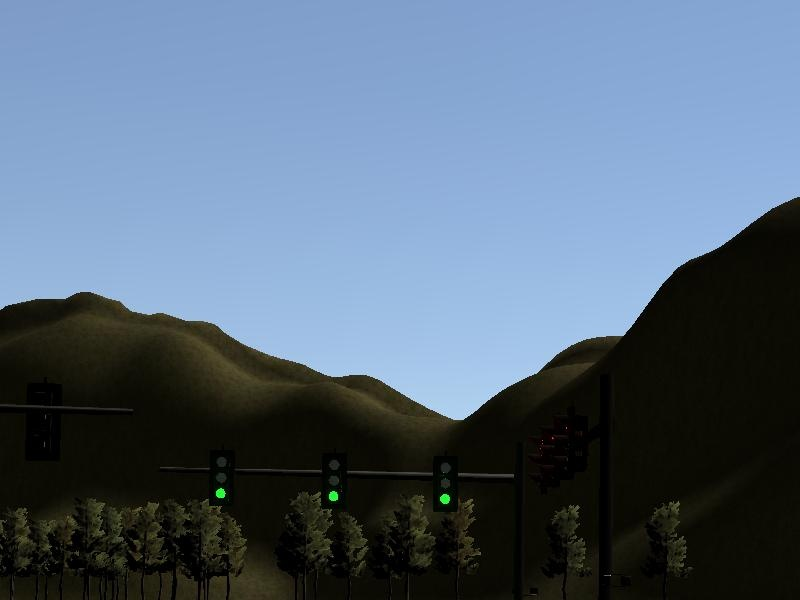GREEN: (432, 457, 457, 509), (322, 455, 347, 506), (210, 453, 231, 502)
